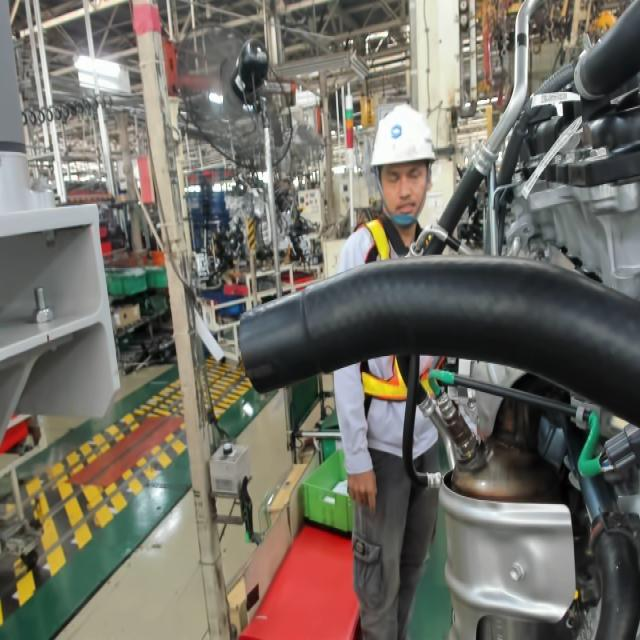Hose Radiator-PC: (246, 360, 274, 380)
